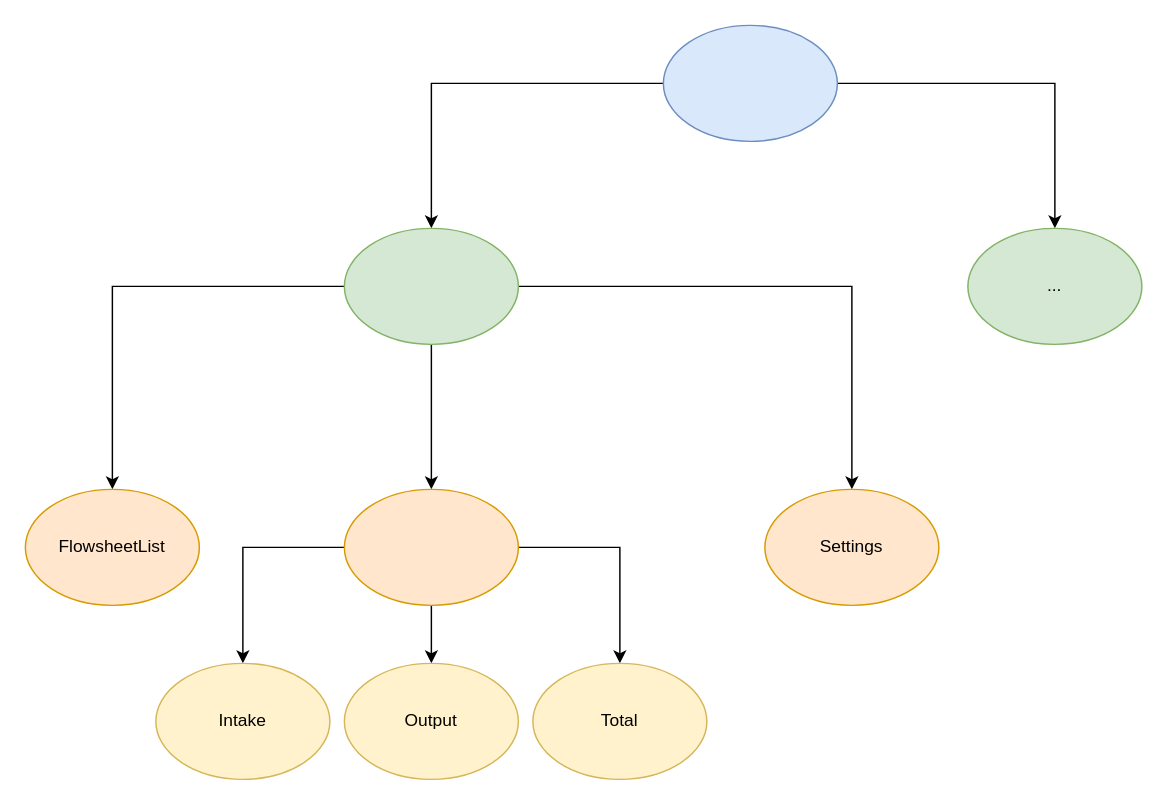
Some shapes in this 1167 by 805 pixel diagram are drawn without their labels. The shapes that lost their labels are listed below. From the top down, each one's centre as x and y in pixels, then its label:
the point at 749,82: Home
the point at 430,285: FlowsheetHome
the point at 430,546: Flowsheet
